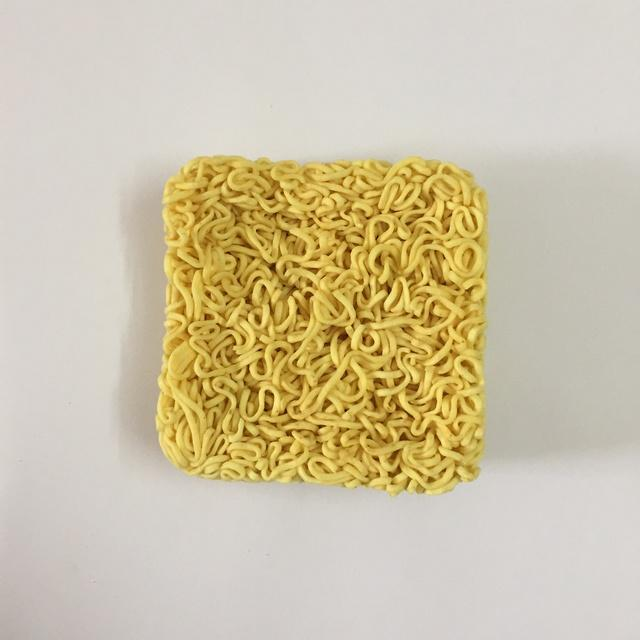noodles: (148, 143, 495, 503)
